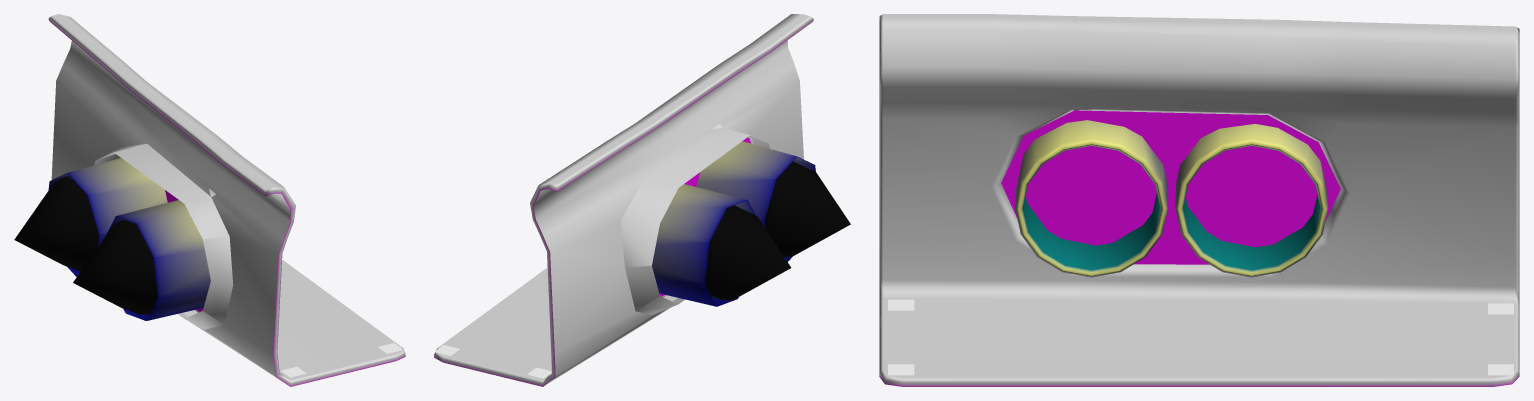
The model's file is Car_Nissan_SkylineGTRVspecR34_1999_Exhausts_SetF_AltA.fbx.
3 renders of one model, left to right at view 1: azimuth 30°, elevation 25°; view 2: azimuth 150°, elevation 25°; view 3: azimuth 270°, elevation 25°, orthographic. The views are drawn at different scales.
Visible parts, largest first — view 1: Exhausts 6; view 2: Exhausts 6; view 3: Exhausts 6.
Boxes of the visible parts, <box> form: Exhausts 6: <box>14,14,405,386</box>; Exhausts 6: <box>434,14,850,386</box>; Exhausts 6: <box>879,14,1519,386</box>.
Size of the model in its own units: 0.1908 by 0.1451 by 0.2965.
